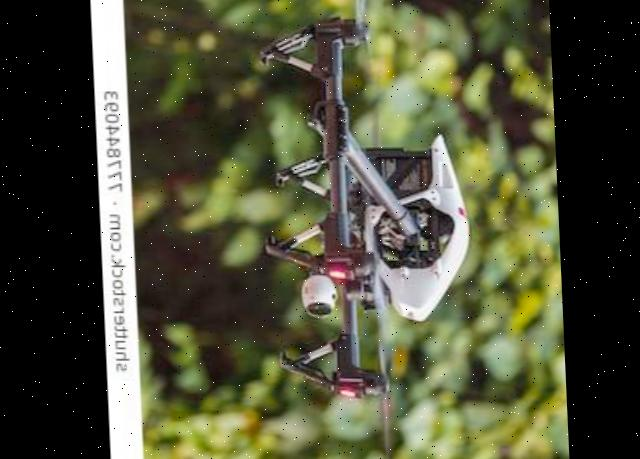drone: (243, 0, 480, 459)
